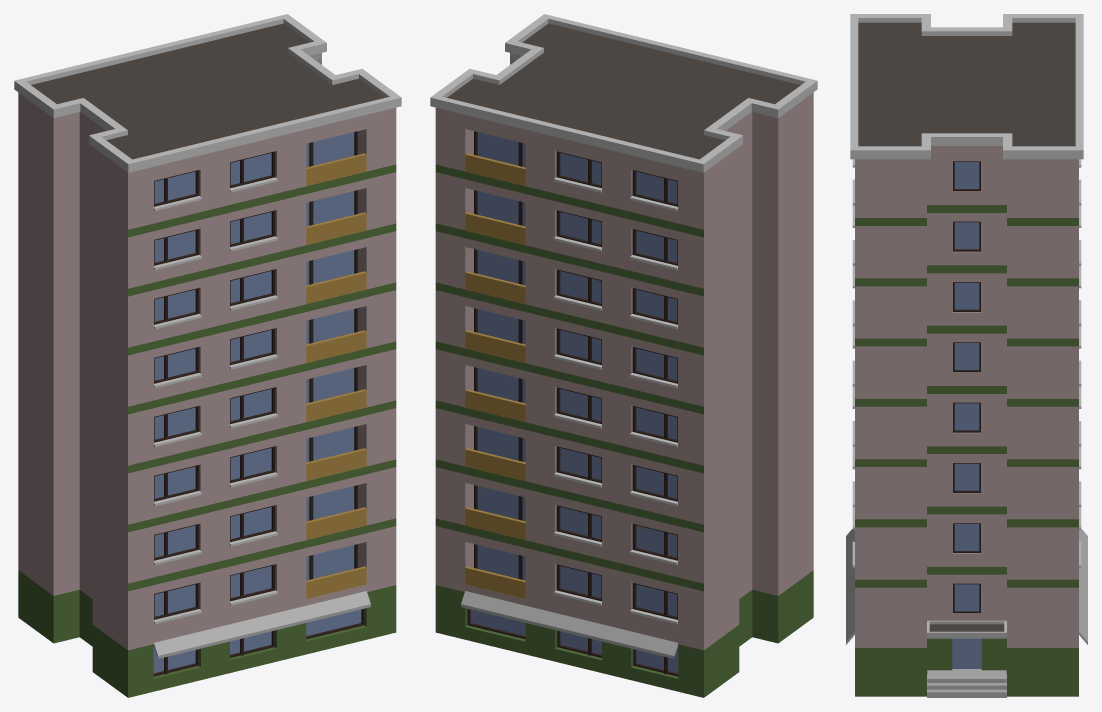
File: ApartmentBuilding_13.fbx
3 views of the same model, side by side, from view 1: azimuth 30°, elevation 25°; view 2: azimuth 150°, elevation 25°; view 3: azimuth 270°, elevation 25° (orthographic). The views are drawn at different scales.
Visible parts, largest first — view 1: ApartmentBuilding_13; view 2: ApartmentBuilding_13; view 3: ApartmentBuilding_13.
Boxes of the visible parts, x1,y1,x2,y2 form: ApartmentBuilding_13: [14, 14, 401, 697]; ApartmentBuilding_13: [430, 14, 817, 697]; ApartmentBuilding_13: [846, 14, 1087, 697].
Bounding box in the file's own units: 12.54 × 23.5 × 9.39.
